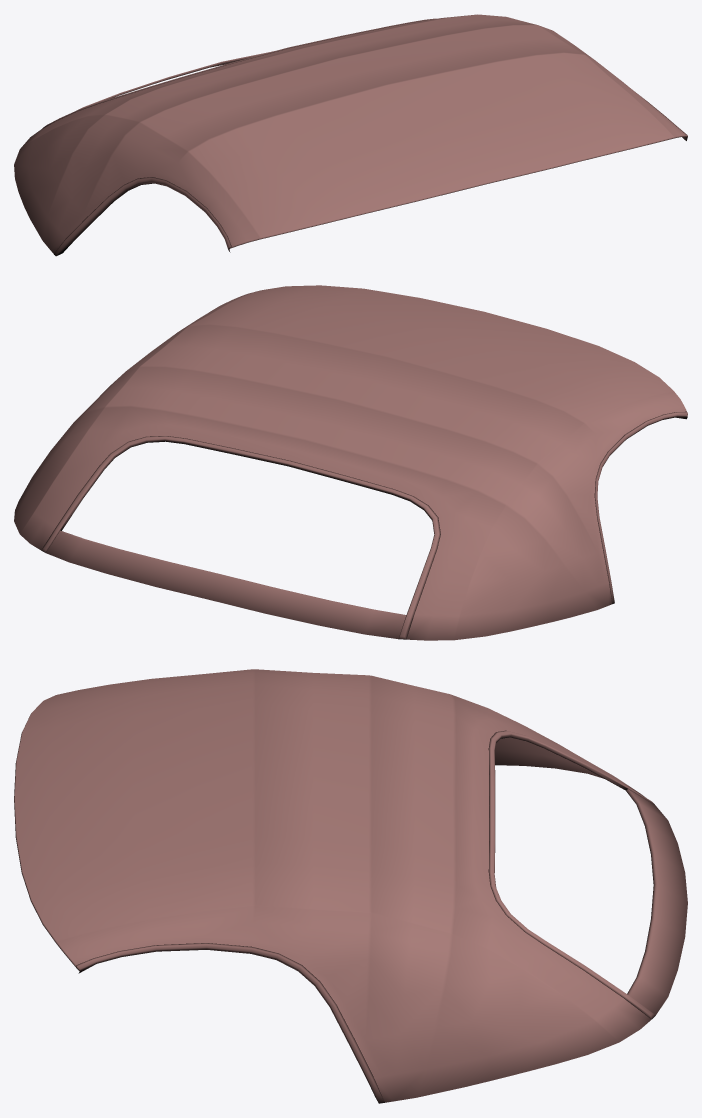
Rendered from Viper_Roof_Soft_Trim.fbx.
3 views of the same model, one above another, from view 1: azimuth 30°, elevation 25°; view 2: azimuth 150°, elevation 25°; view 3: azimuth 270°, elevation 25° (orthographic). The views are drawn at different scales.
Parts seen in each view (by area): view 1: Viper_Roof_Soft_Trim; view 2: Viper_Roof_Soft_Trim; view 3: Viper_Roof_Soft_Trim.
Part boxes in pixels (x1,y1,x2,y2): Viper_Roof_Soft_Trim: (14, 14, 687, 256); Viper_Roof_Soft_Trim: (14, 285, 687, 640); Viper_Roof_Soft_Trim: (14, 669, 687, 1103).
Size of the model in its own units: 148 by 35.52 by 126.
